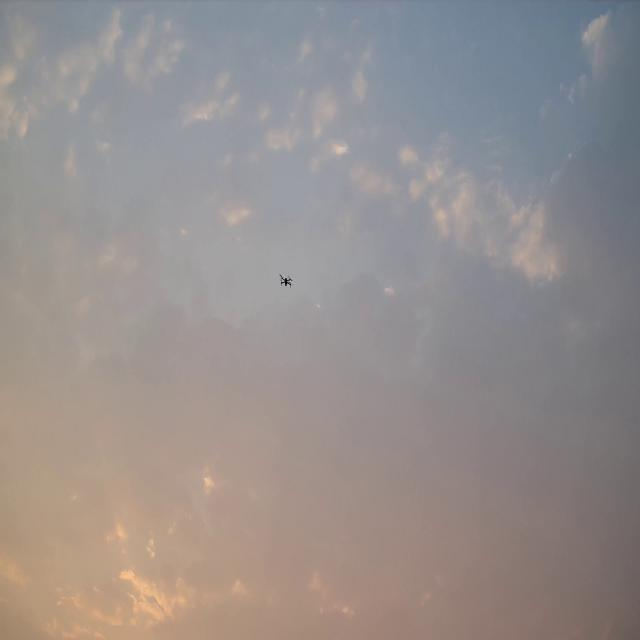drone: (278, 273, 294, 288)
